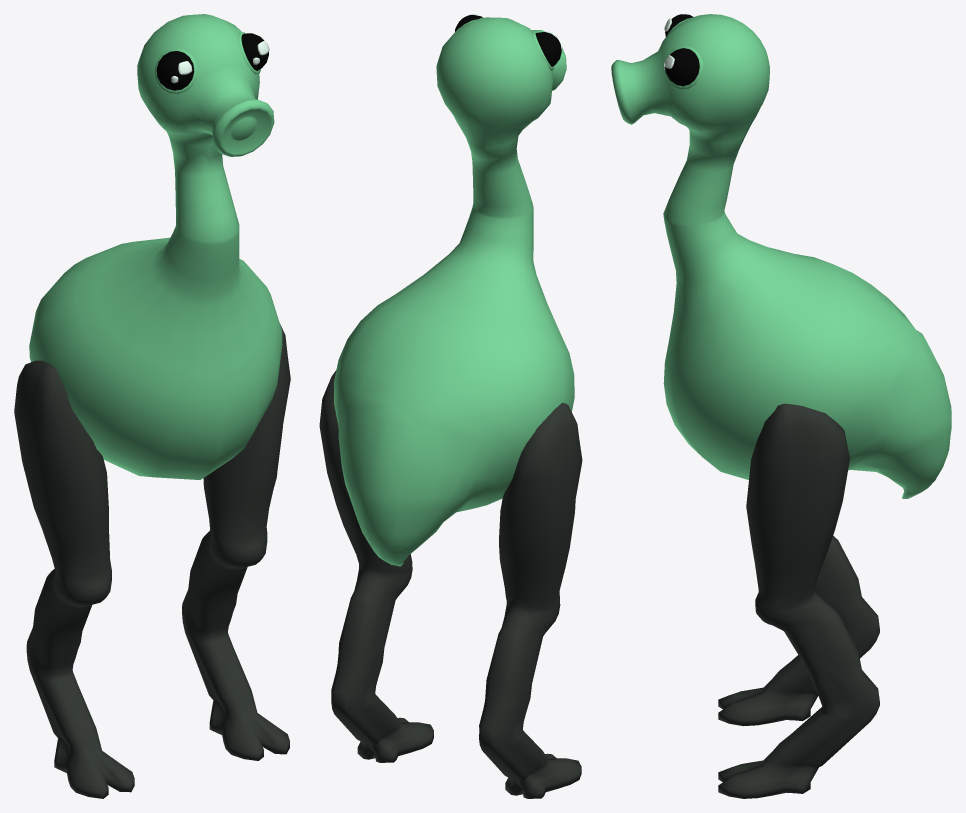
The model's file is GunGoone_High.fbx.
The picture shows the model from 3 angles, left to right: view 1: azimuth 30°, elevation 25°; view 2: azimuth 150°, elevation 25°; view 3: azimuth 270°, elevation 25°; orthographic projection. The views are drawn at different scales.
Visible parts, largest first — view 1: Plane.003; view 2: Plane.003; view 3: Plane.003.
Boxes of the visible parts, x1=… form: Plane.003: x1=14, y1=14, x2=290, y2=798; Plane.003: x1=319, y1=14, x2=582, y2=798; Plane.003: x1=611, y1=14, x2=951, y2=798.
Bounding box in the file's own units: 39.94 × 116 × 48.97.
